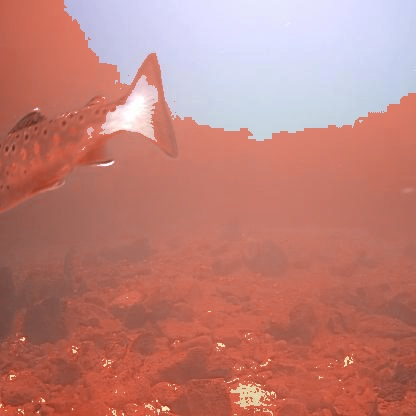salmon: (0, 50, 183, 216)
